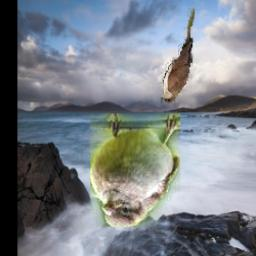Cuckoo: (160, 7, 195, 103)
Sparrow: (90, 115, 180, 228)
